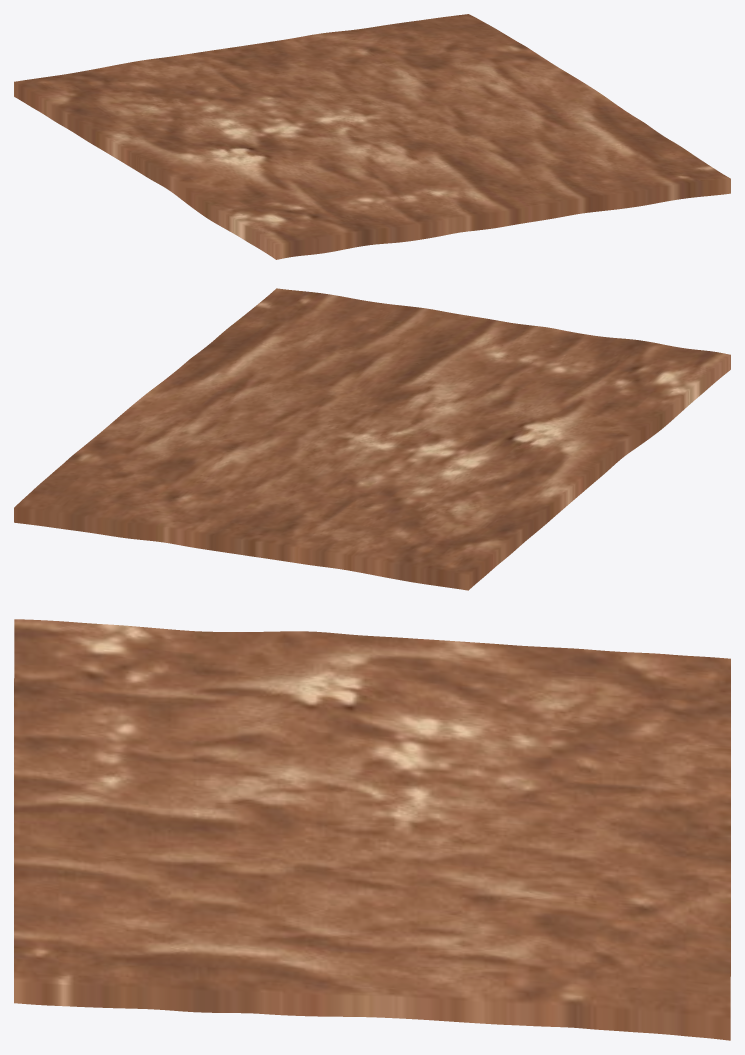
3 views of the same model, one above another, from view 1: azimuth 30°, elevation 25°; view 2: azimuth 150°, elevation 25°; view 3: azimuth 270°, elevation 25° (orthographic). The views are drawn at different scales.
Parts seen in each view (by area): view 1: L8_88_105; view 2: L8_88_105; view 3: L8_88_105.
Part boxes in pixels (box(x1,y1,x2,y2)): L8_88_105: box(14, 14, 730, 259); L8_88_105: box(14, 288, 730, 590); L8_88_105: box(14, 619, 730, 1040).
Bounding box in the file's own units: 56.29 × 10.27 × 56.29.
1 material, 1 textured.
